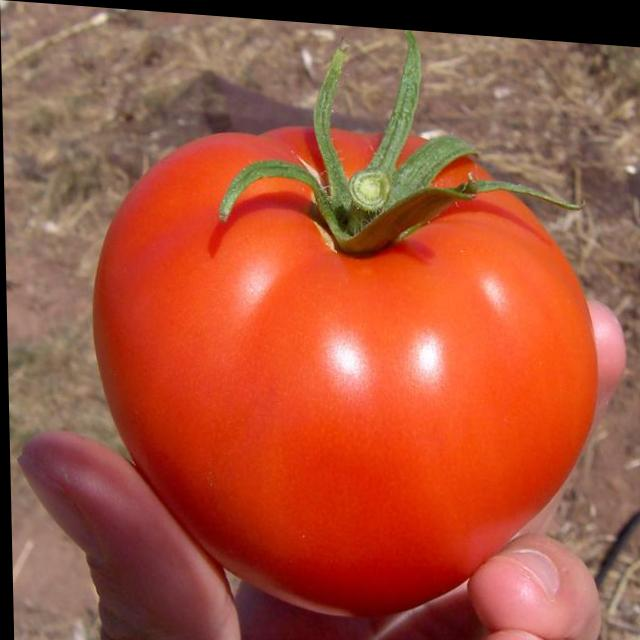kirmizi: (71, 86, 612, 617)
